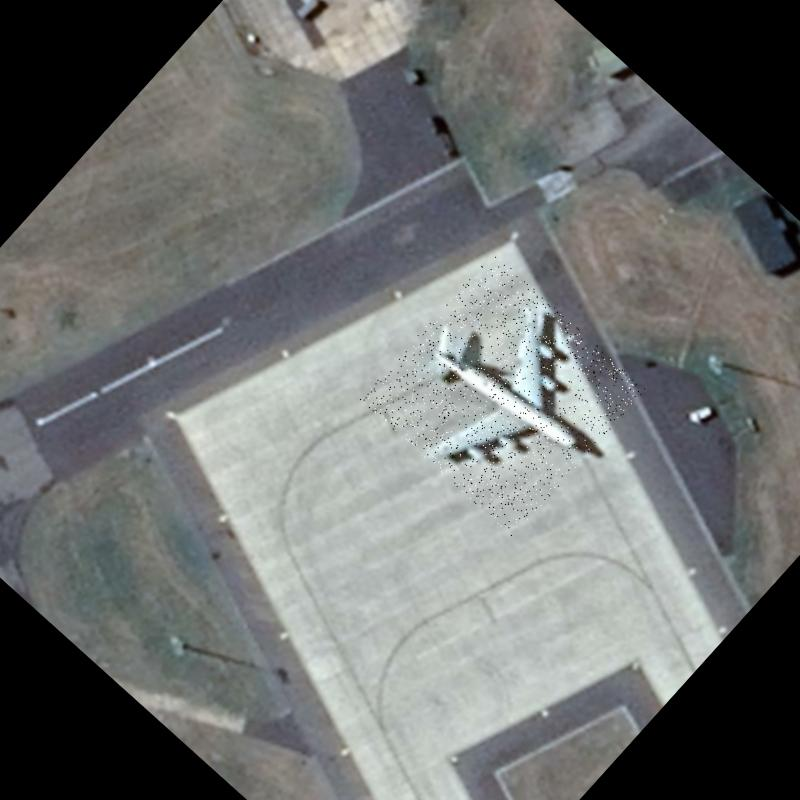A11: (359, 251, 645, 538)
